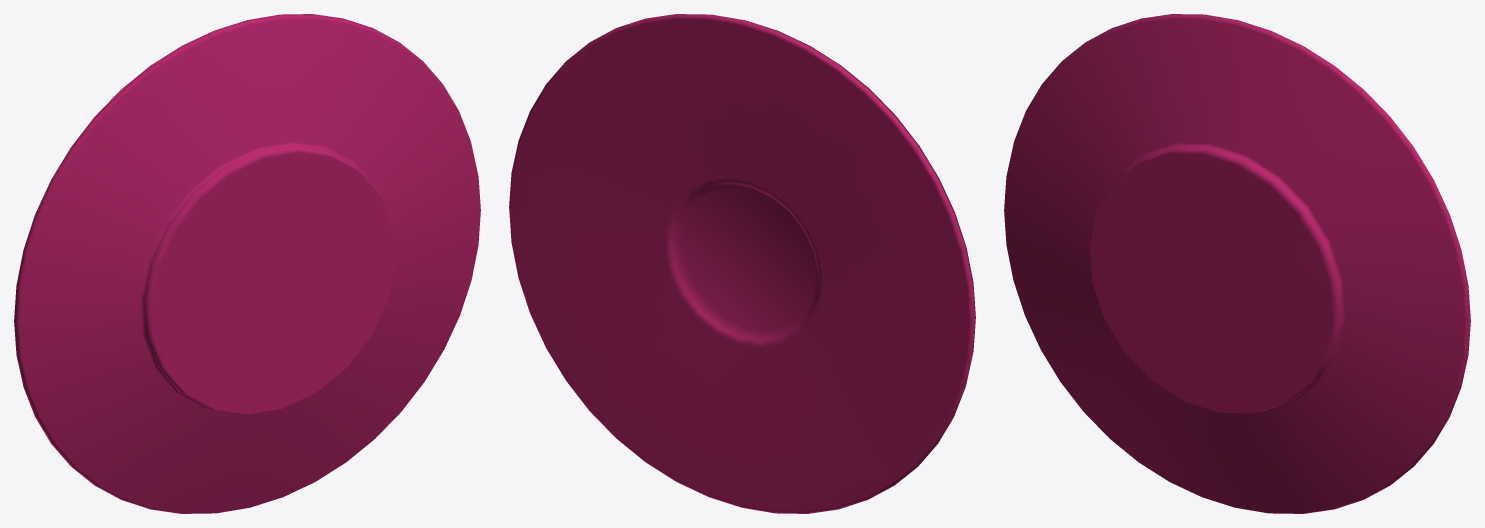
The model's file is SM_Dishes_20.fbx.
3 renders of one model, left to right at view 1: azimuth 30°, elevation 25°; view 2: azimuth 150°, elevation 25°; view 3: azimuth 330°, elevation 25°, orthographic.
Parts seen in each view (by area): view 1: SM_Dishes_20; view 2: SM_Dishes_20; view 3: SM_Dishes_20.
Part boxes in pixels (bbox=[...]): SM_Dishes_20: bbox=[14, 14, 480, 513]; SM_Dishes_20: bbox=[509, 14, 975, 513]; SM_Dishes_20: bbox=[1004, 14, 1470, 513].
Size of the model in its own units: 19.4 by 19.4 by 2.09.
